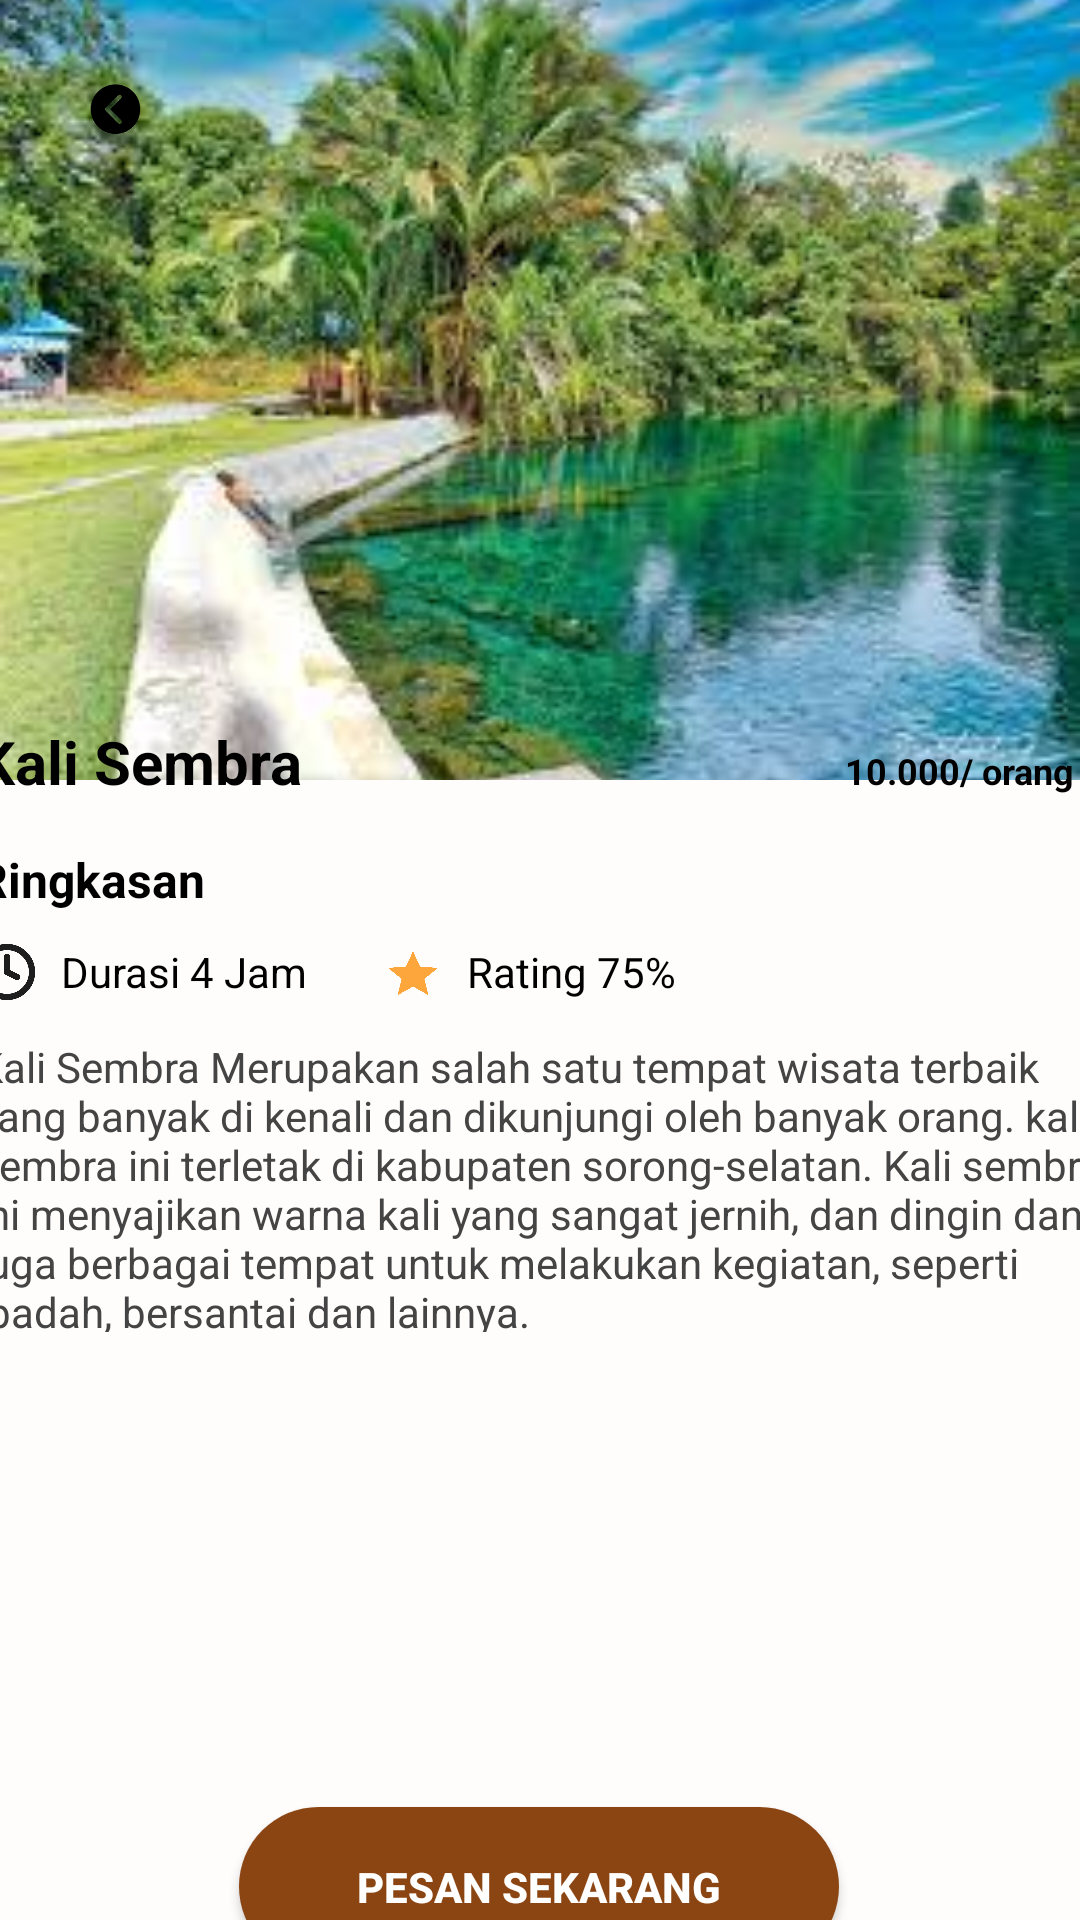

Where icons sit on this 1080*1920 app screen, as (x1, y1, x2, y2):
stars: (389, 952, 437, 995)
